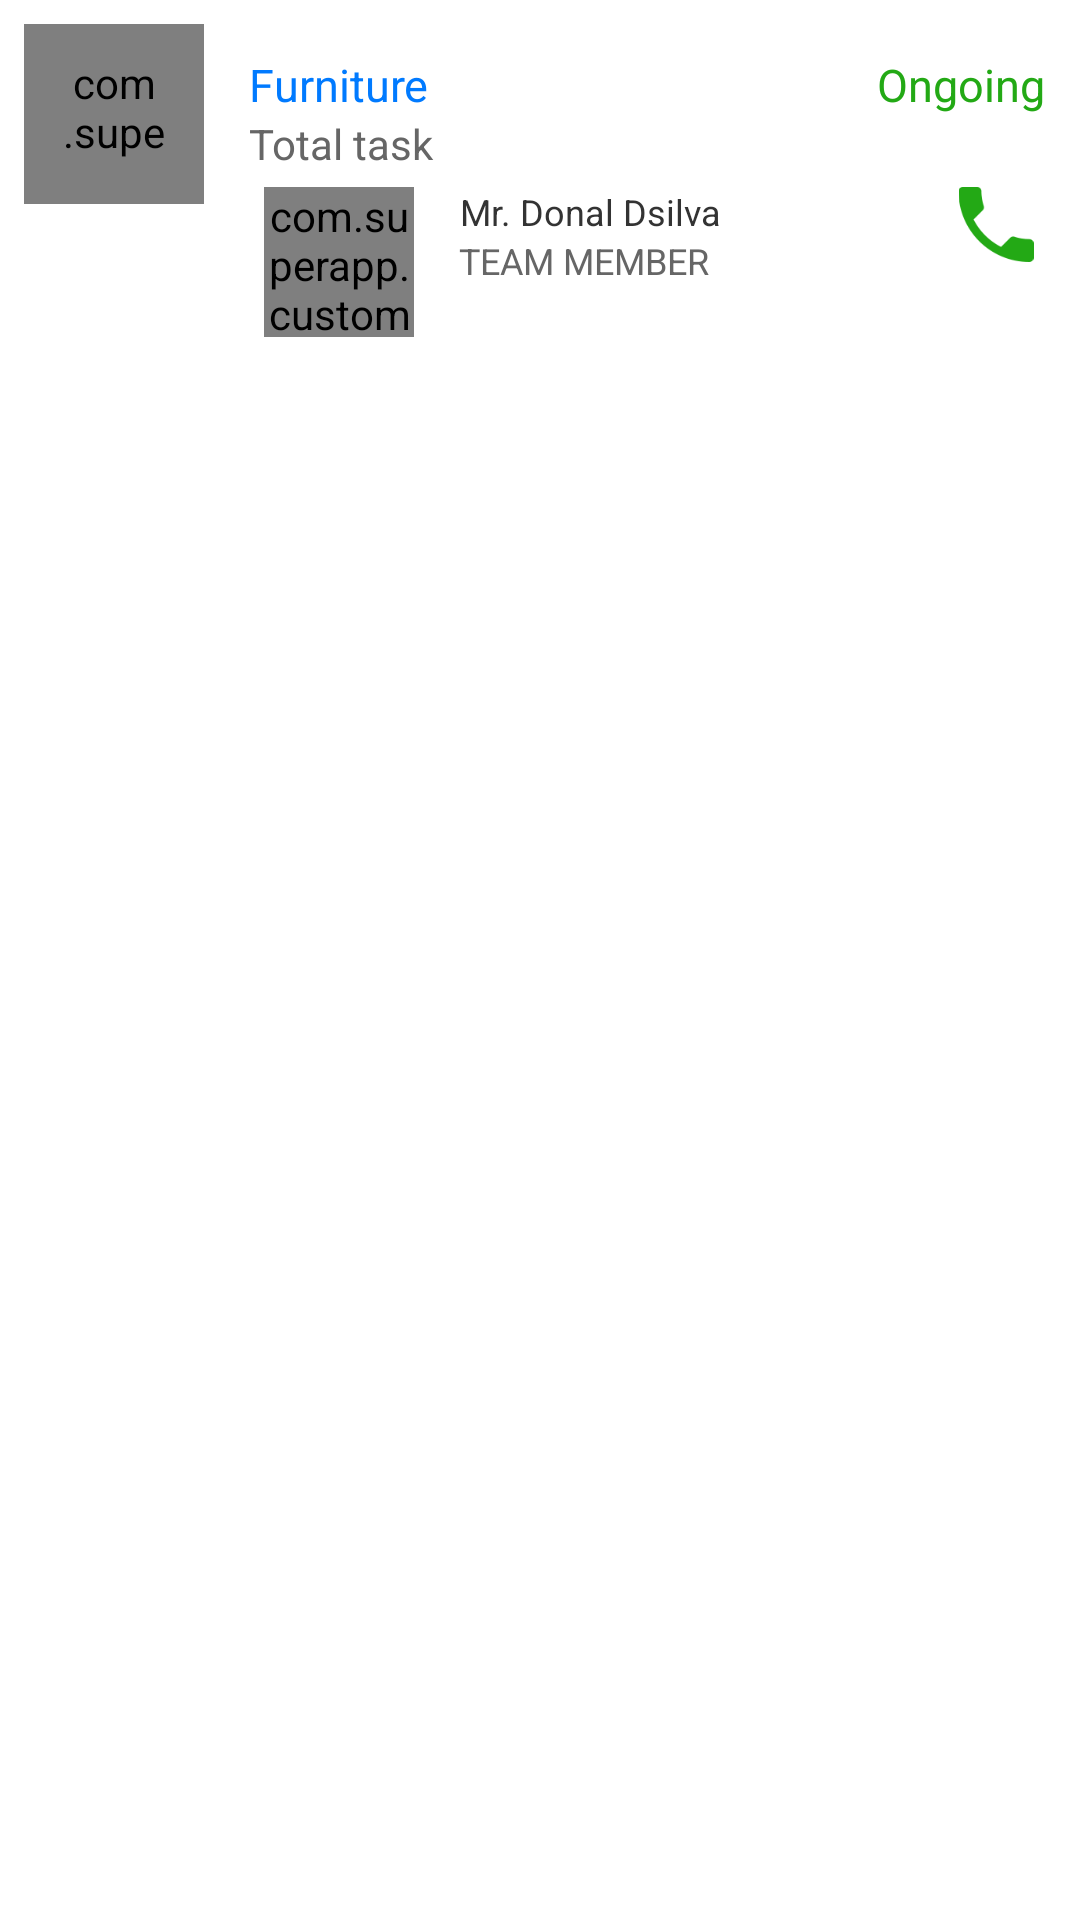

Where icons sit on this 1080x1920 app screen, as region(x1, y1, x2, y2):
call: region(959, 187, 1034, 262)
